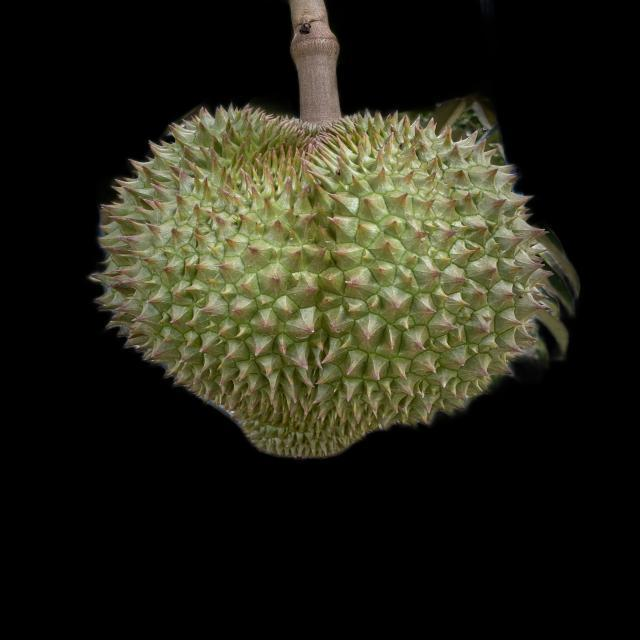immature: (85, 99, 551, 455)
